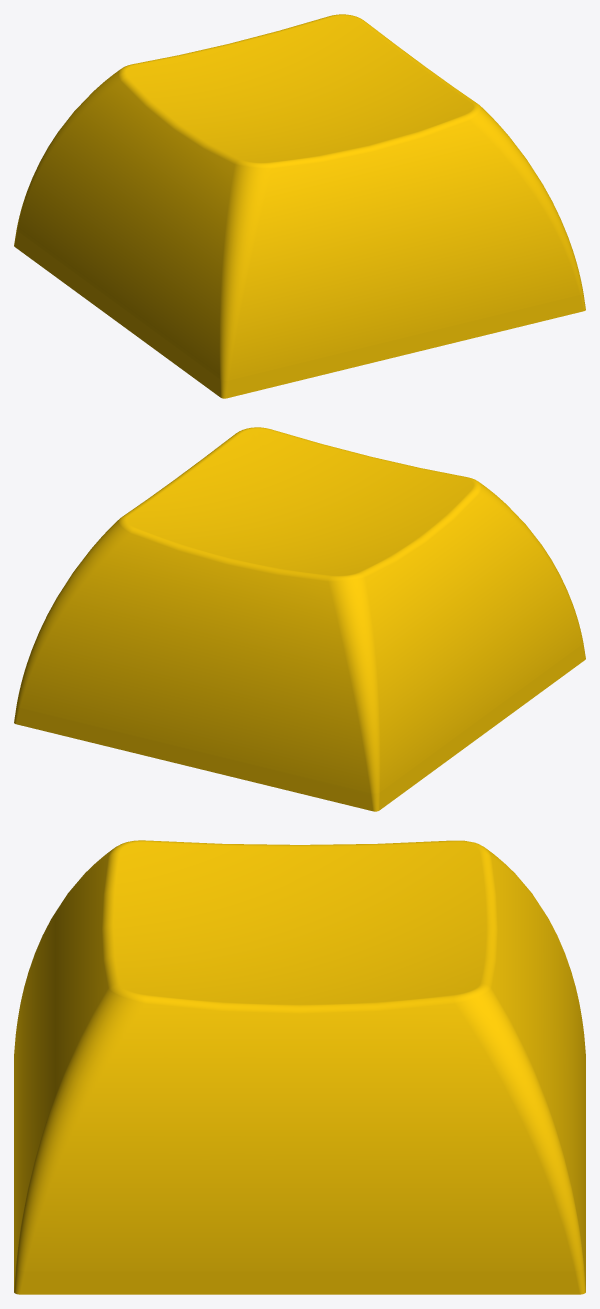
The picture shows the model from 3 angles, top to bottom: view 1: azimuth 30°, elevation 25°; view 2: azimuth 150°, elevation 25°; view 3: azimuth 270°, elevation 25°; orthographic projection. The views are drawn at different scales.
Parts seen in each view (by area): view 1: Body1; view 2: Body1; view 3: Body1.
Boxes of the visible parts, x1,y1,x2,y2 form: Body1: [14, 14, 585, 398]; Body1: [14, 427, 585, 811]; Body1: [14, 840, 585, 1294].
Bounding box in the file's own units: 18.31 × 9.05 × 18.31.
